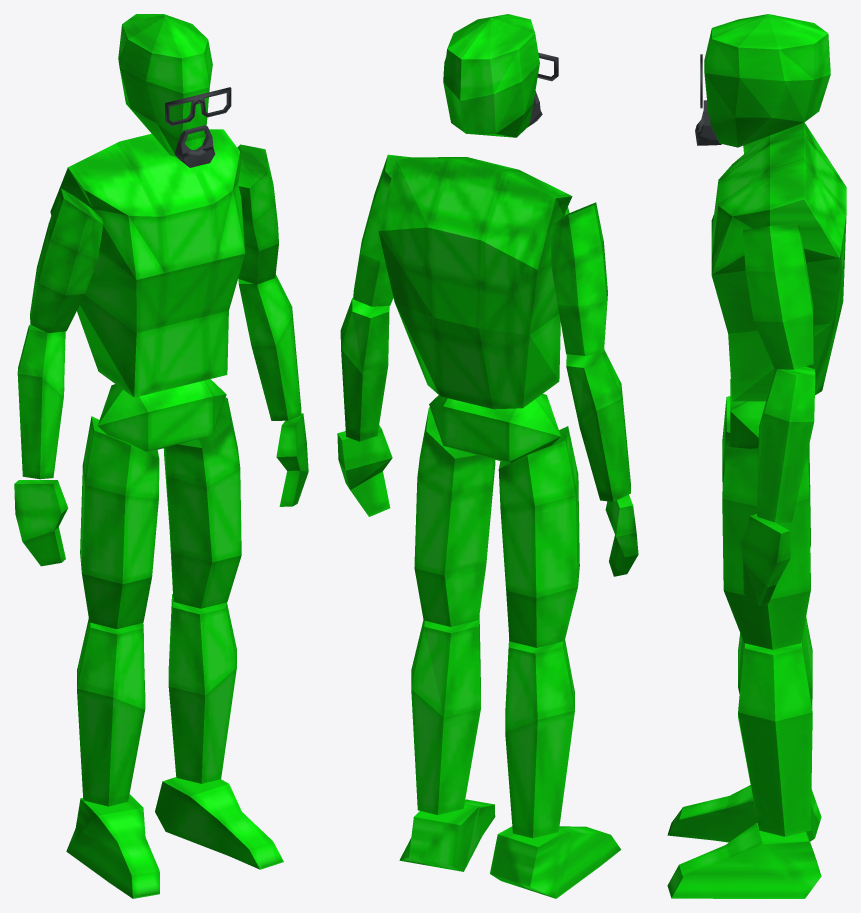
File: cordon.gltf
The picture shows the model from 3 angles, left to right: view 1: azimuth 30°, elevation 25°; view 2: azimuth 150°, elevation 25°; view 3: azimuth 270°, elevation 25°; orthographic projection. The views are drawn at different scales.
Visible parts, largest first — view 1: playerstart_reference; view 2: playerstart_reference; view 3: playerstart_reference.
Boxes of the visible parts, x1,y1,x2,y2 form: playerstart_reference: [14, 14, 308, 898]; playerstart_reference: [337, 14, 638, 898]; playerstart_reference: [667, 14, 846, 898].
Bounding box in the file's own units: 26.25 × 71.27 × 13.63.
2 materials, 2 textured.
